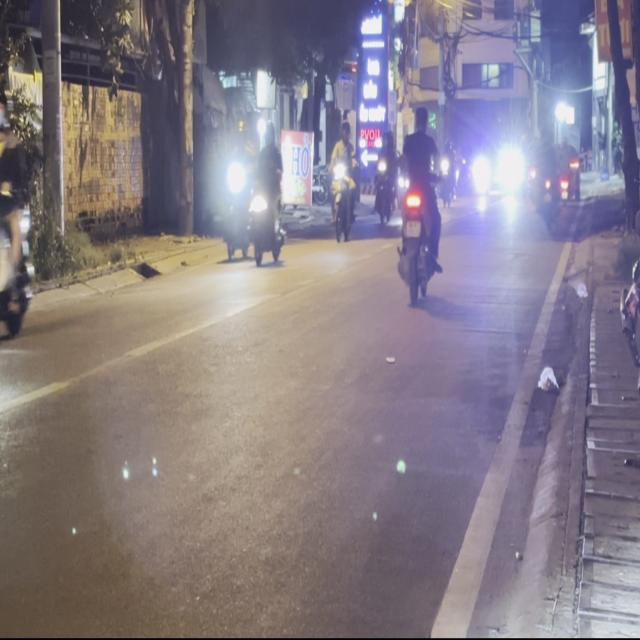helmet: (0, 90, 11, 139)
licenseplate: (0, 91, 38, 356)
